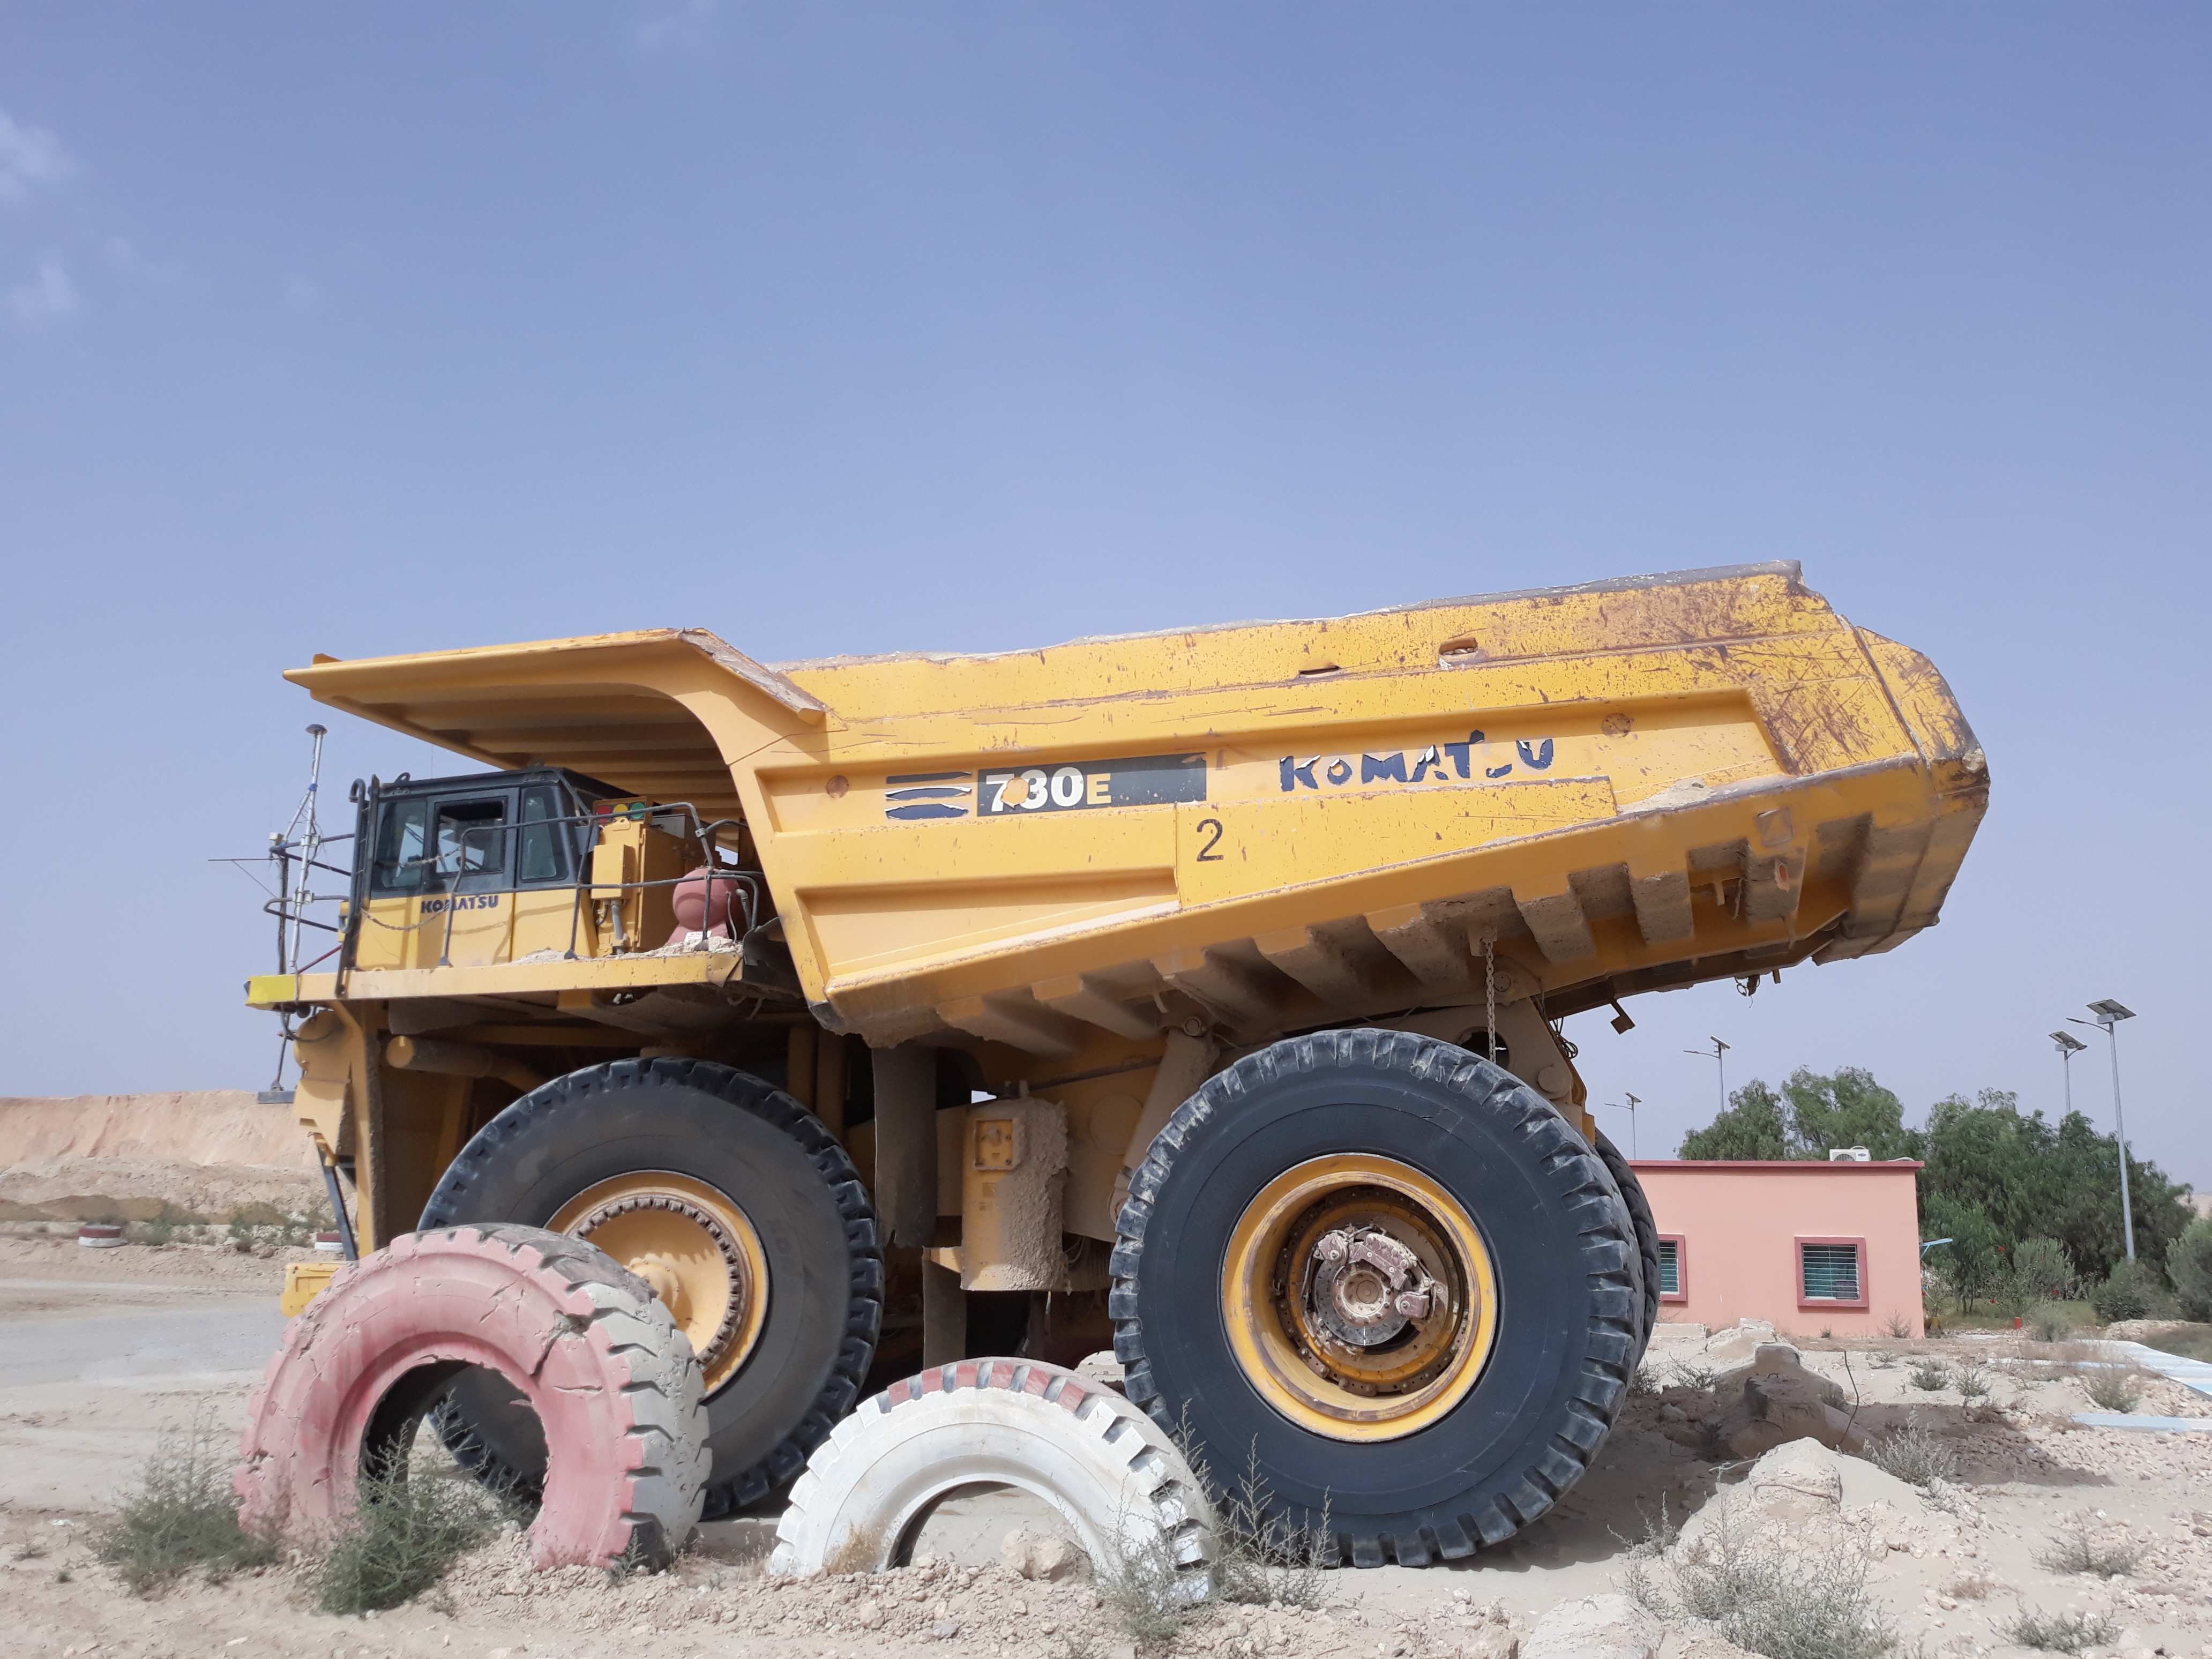camion: (239, 540, 2024, 1584)
